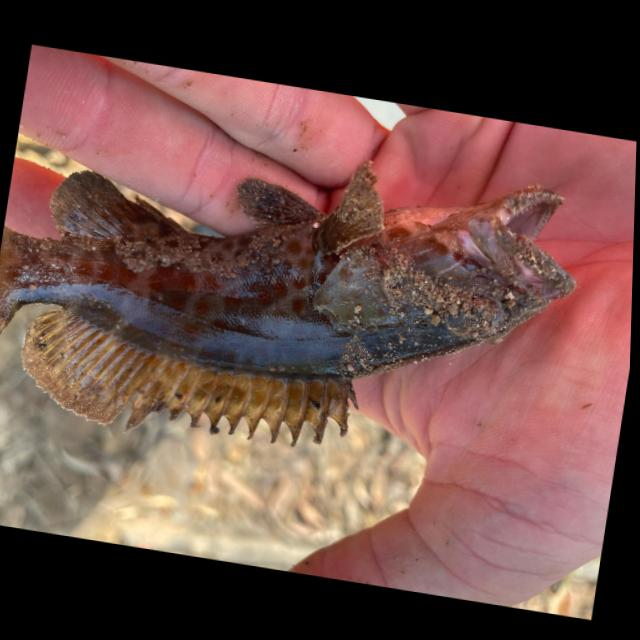Groupers: (0, 104, 589, 499)
